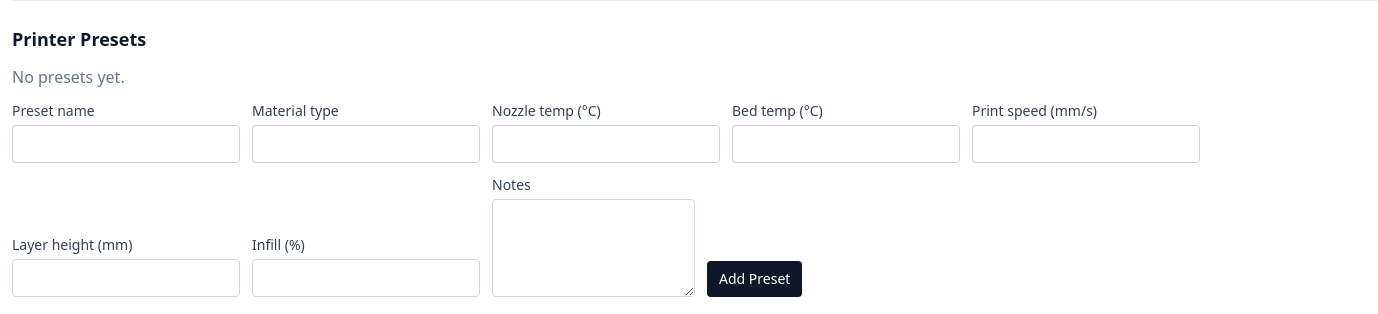
Test: PresetsSection › creates a new preset and clears the add form
Expected: the text "No presets yet." is shown, [12,66,125,88]
Type "PETG" into the field labelled "Preset name" at (126, 144), box [12,125,240,163]
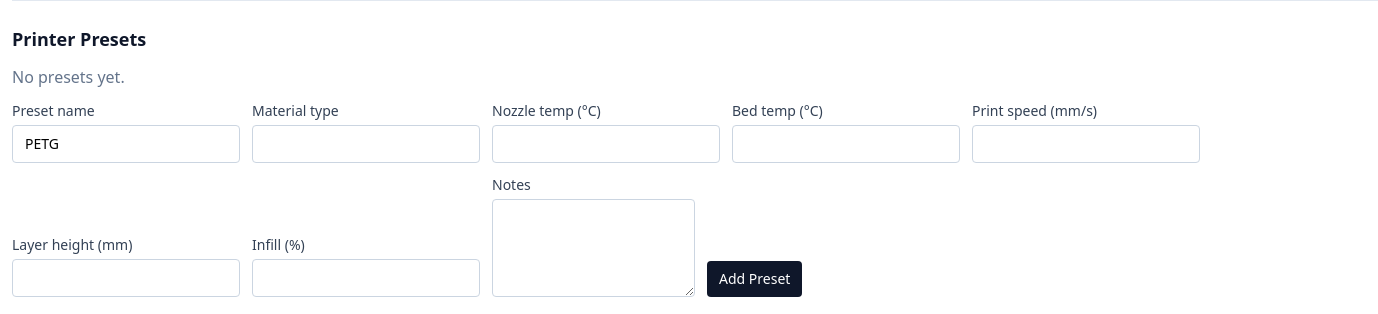
Type "PETG" into the field labelled "Material type" at (366, 144), box [252,125,480,163]
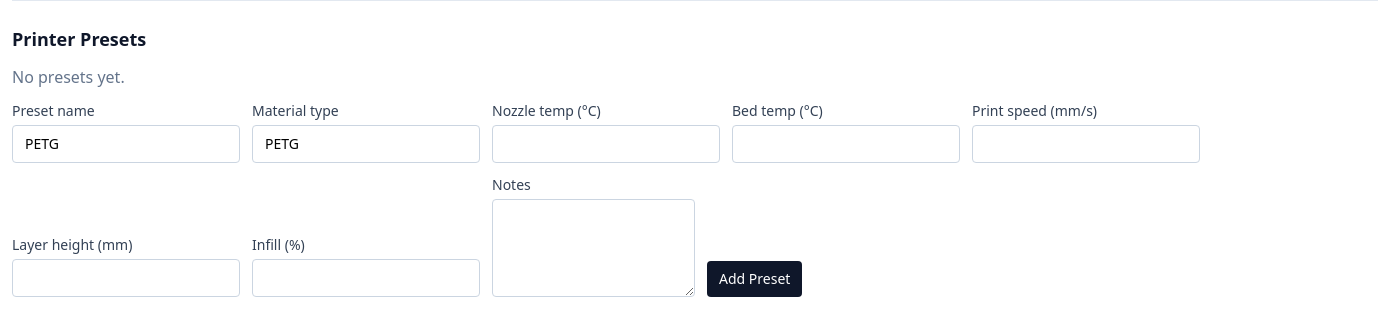
Click the button "Add Preset" at (755, 279), box [707,261,802,297]
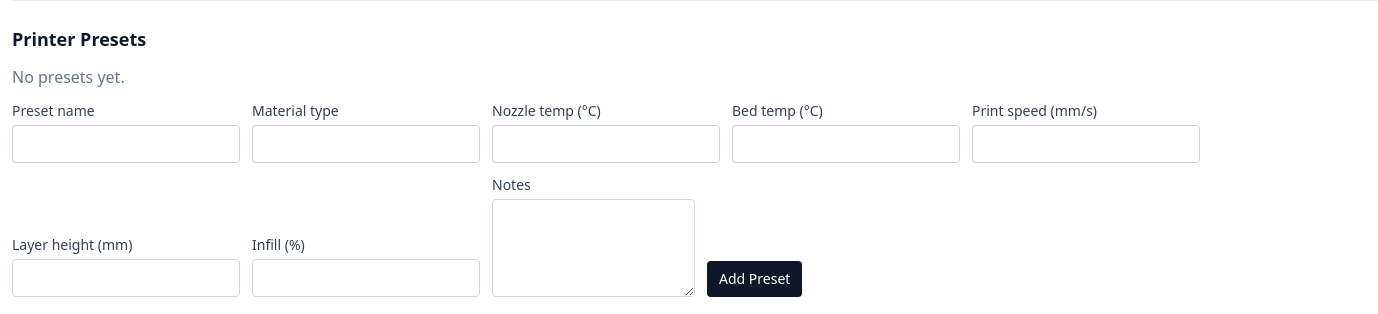
Expected: the field labelled "Preset name" is empty, [12,125,240,163]
Expected: the field labelled "Material type" is empty, [252,125,480,163]
